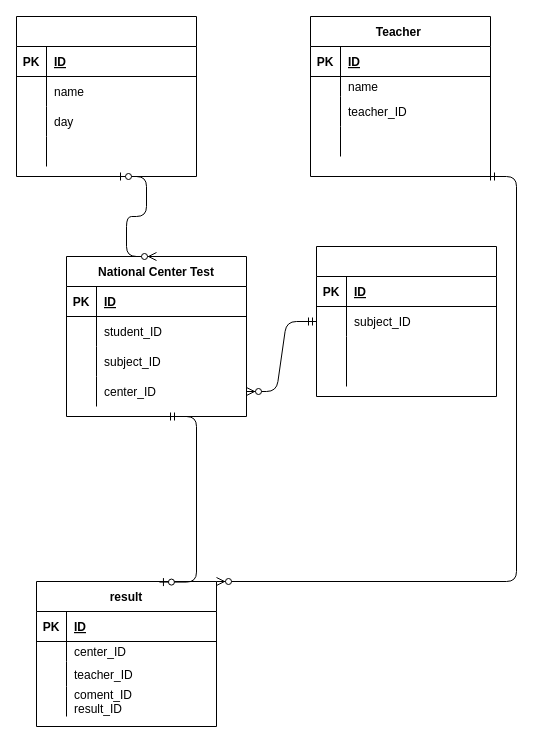
Image size: 533x743. Some labels were removed from this diagram. The shapes that lost their labels are listed below. From the top down, each one's box as (x1, y1, x2, y2) in pixels, then its label:
(16, 16, 196, 176): Student(s)
(316, 246, 496, 396): Subject (科目）
